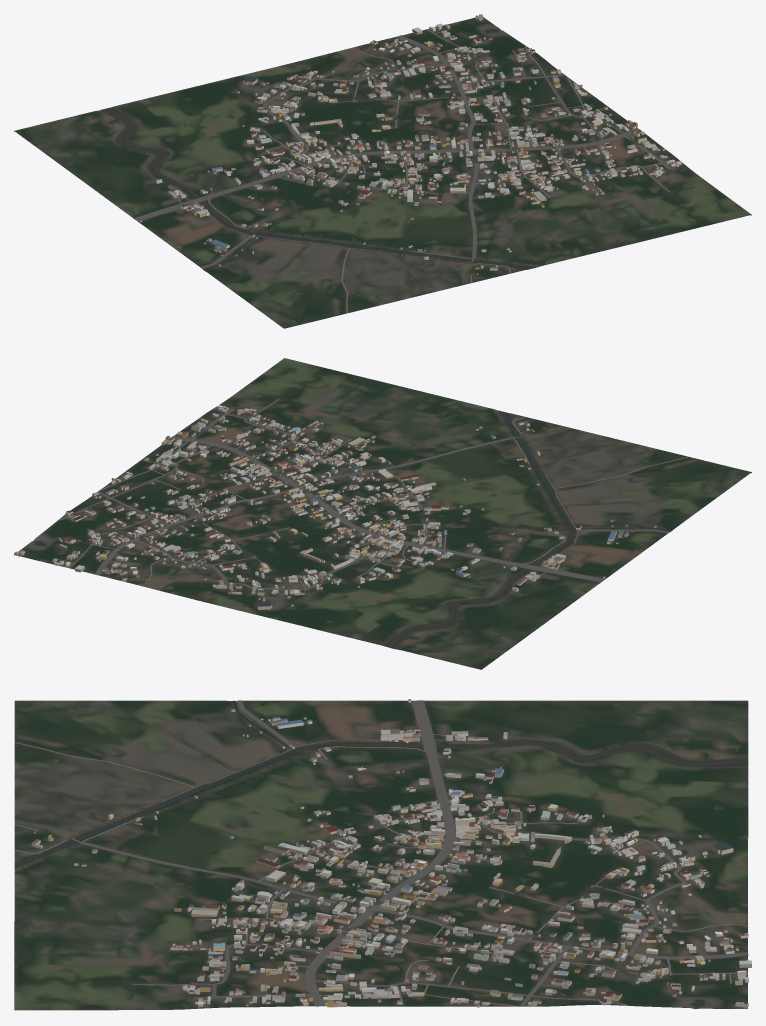
The picture shows the model from 3 angles, top to bottom: view 1: azimuth 30°, elevation 25°; view 2: azimuth 150°, elevation 25°; view 3: azimuth 270°, elevation 25°; orthographic projection. The views are drawn at different scales.
Parts seen in each view (by area): view 1: ground, buildings, roads, water; view 2: ground, buildings, roads, water; view 3: ground, buildings, roads, water.
Boxes of the visible parts, x1,y1,x2,y2 form: ground: (14,17,751,328); buildings: (139,14,681,274); roads: (133,29,671,313); water: (101,29,536,269); ground: (14,358,751,669); buildings: (14,405,656,609); roads: (57,399,688,590); water: (35,410,670,648); ground: (14,700,748,1010); buildings: (31,699,751,1009); roads: (14,700,748,1006); water: (14,700,747,1007).
Bounding box in the file's own units: 1404 × 25.43 × 1409.
